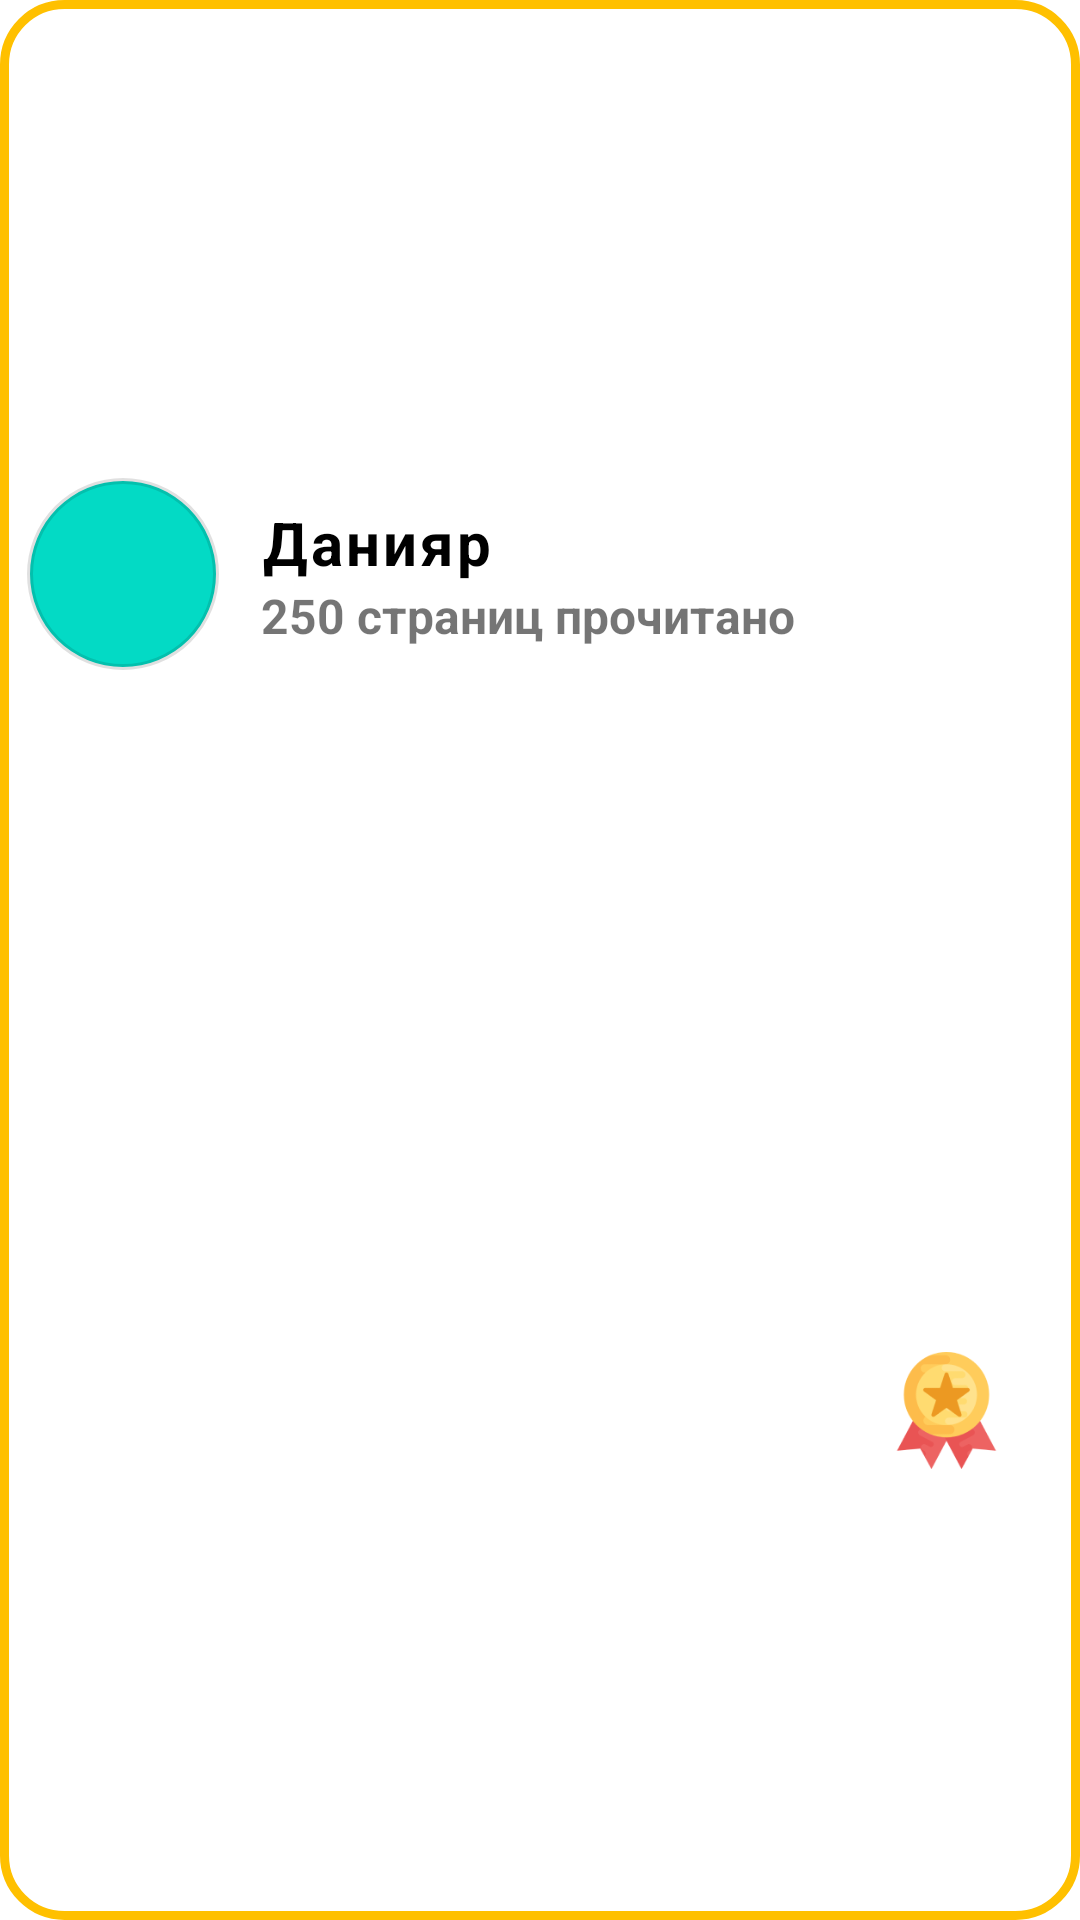

Icon click points for this 1080*1920 phone screenshot, format (x,y):
gold: (946,1410)
